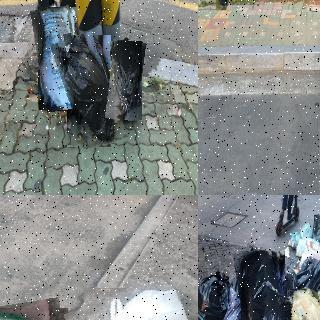Garbage: (58, 33, 120, 149), (74, 278, 198, 320), (34, 6, 81, 111), (237, 249, 288, 320), (108, 40, 144, 121), (198, 268, 230, 320), (282, 286, 320, 320), (218, 292, 247, 320), (215, 0, 230, 10)
